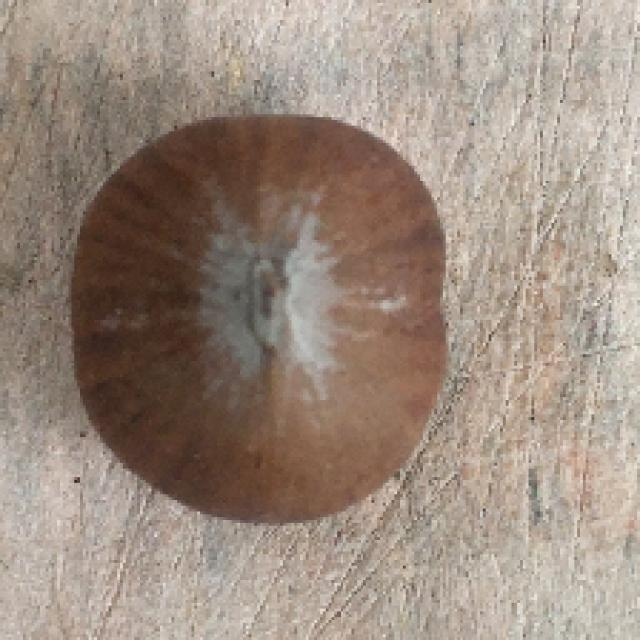qualityHazelnut: (75, 115, 452, 524)
